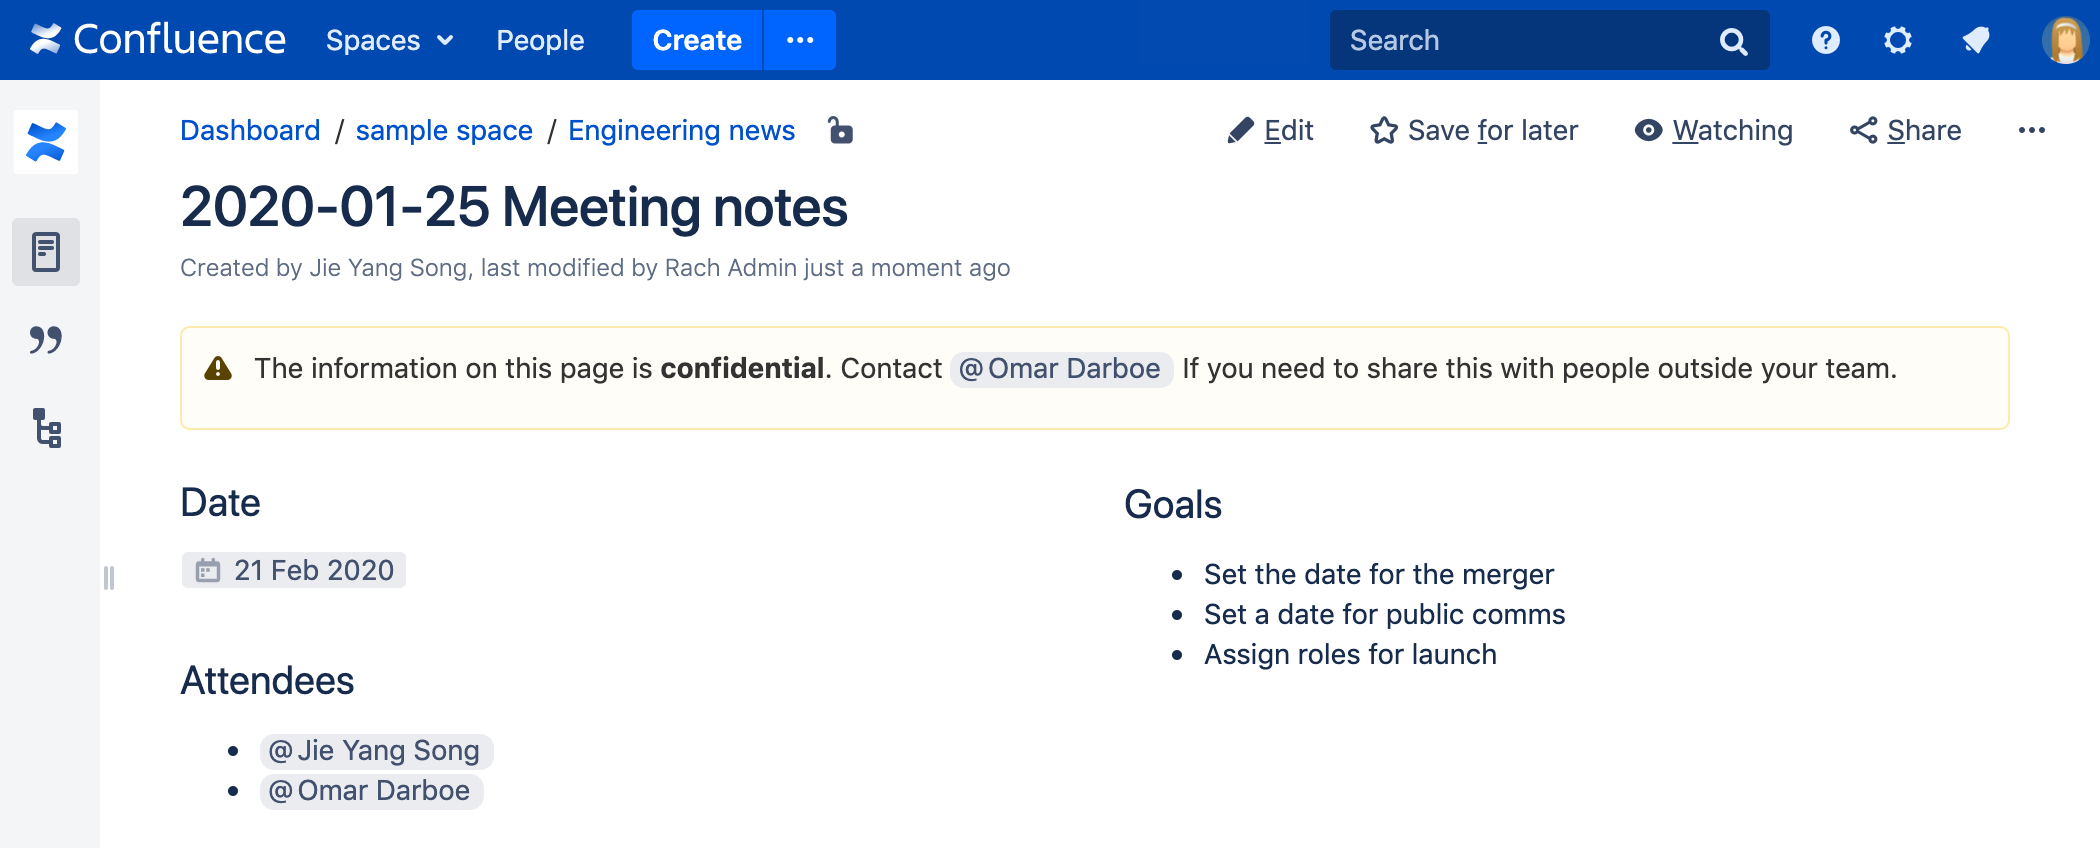button_create: (629, 9, 761, 74)
search_box: (1331, 9, 1780, 76)
